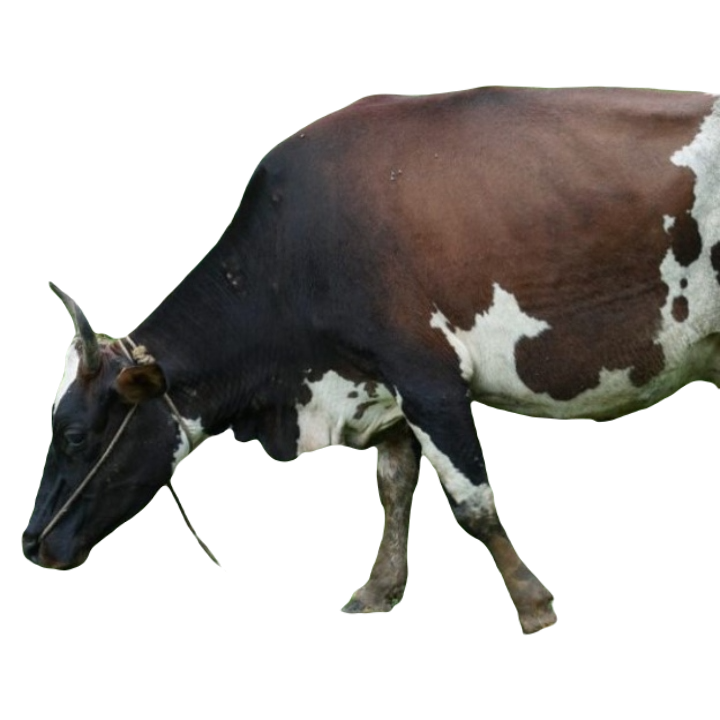Cow: (18, 84, 719, 635)
